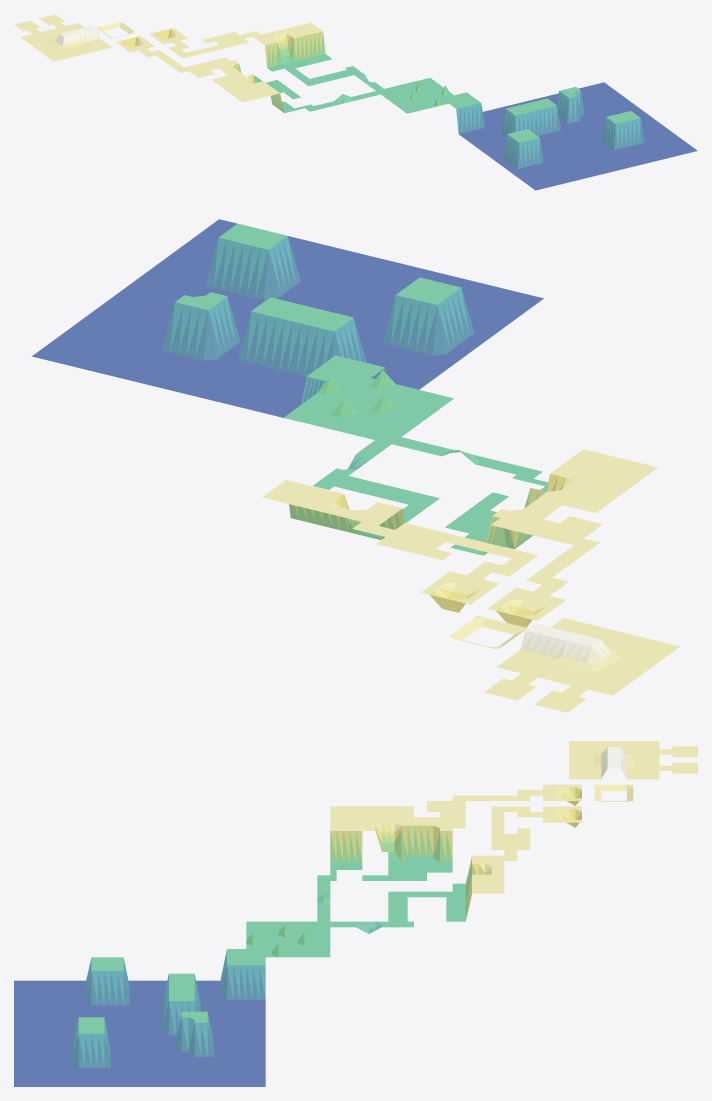
Rendered from ultima-slope.glb.
The picture shows the model from 3 angles, top to bottom: view 1: azimuth 30°, elevation 25°; view 2: azimuth 150°, elevation 25°; view 3: azimuth 270°, elevation 25°; orthographic projection. The views are drawn at different scales.
Visible parts, largest first — view 1: ultima-slope; view 2: ultima-slope; view 3: ultima-slope.
Boxes of the visible parts, bbox=[...] form: ultima-slope: bbox=[14, 14, 697, 190]; ultima-slope: bbox=[32, 219, 679, 712]; ultima-slope: bbox=[14, 741, 697, 1086].
Size of the model in its own units: 105 by 12 by 106.
